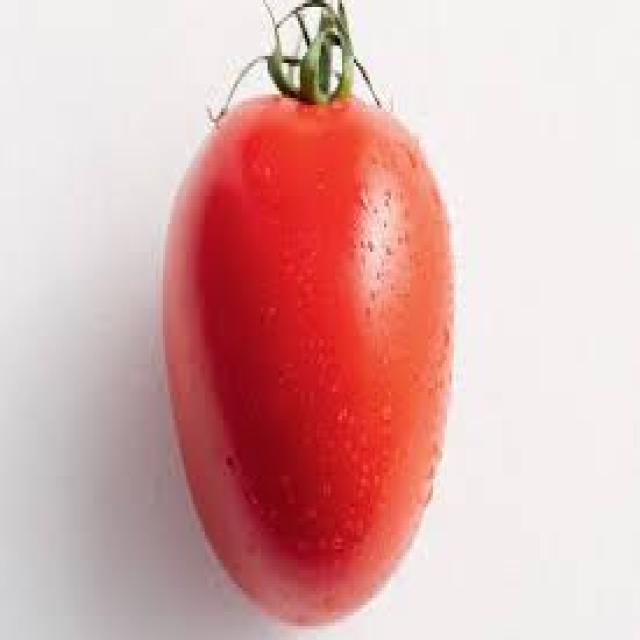Tomato: (130, 56, 502, 600)
